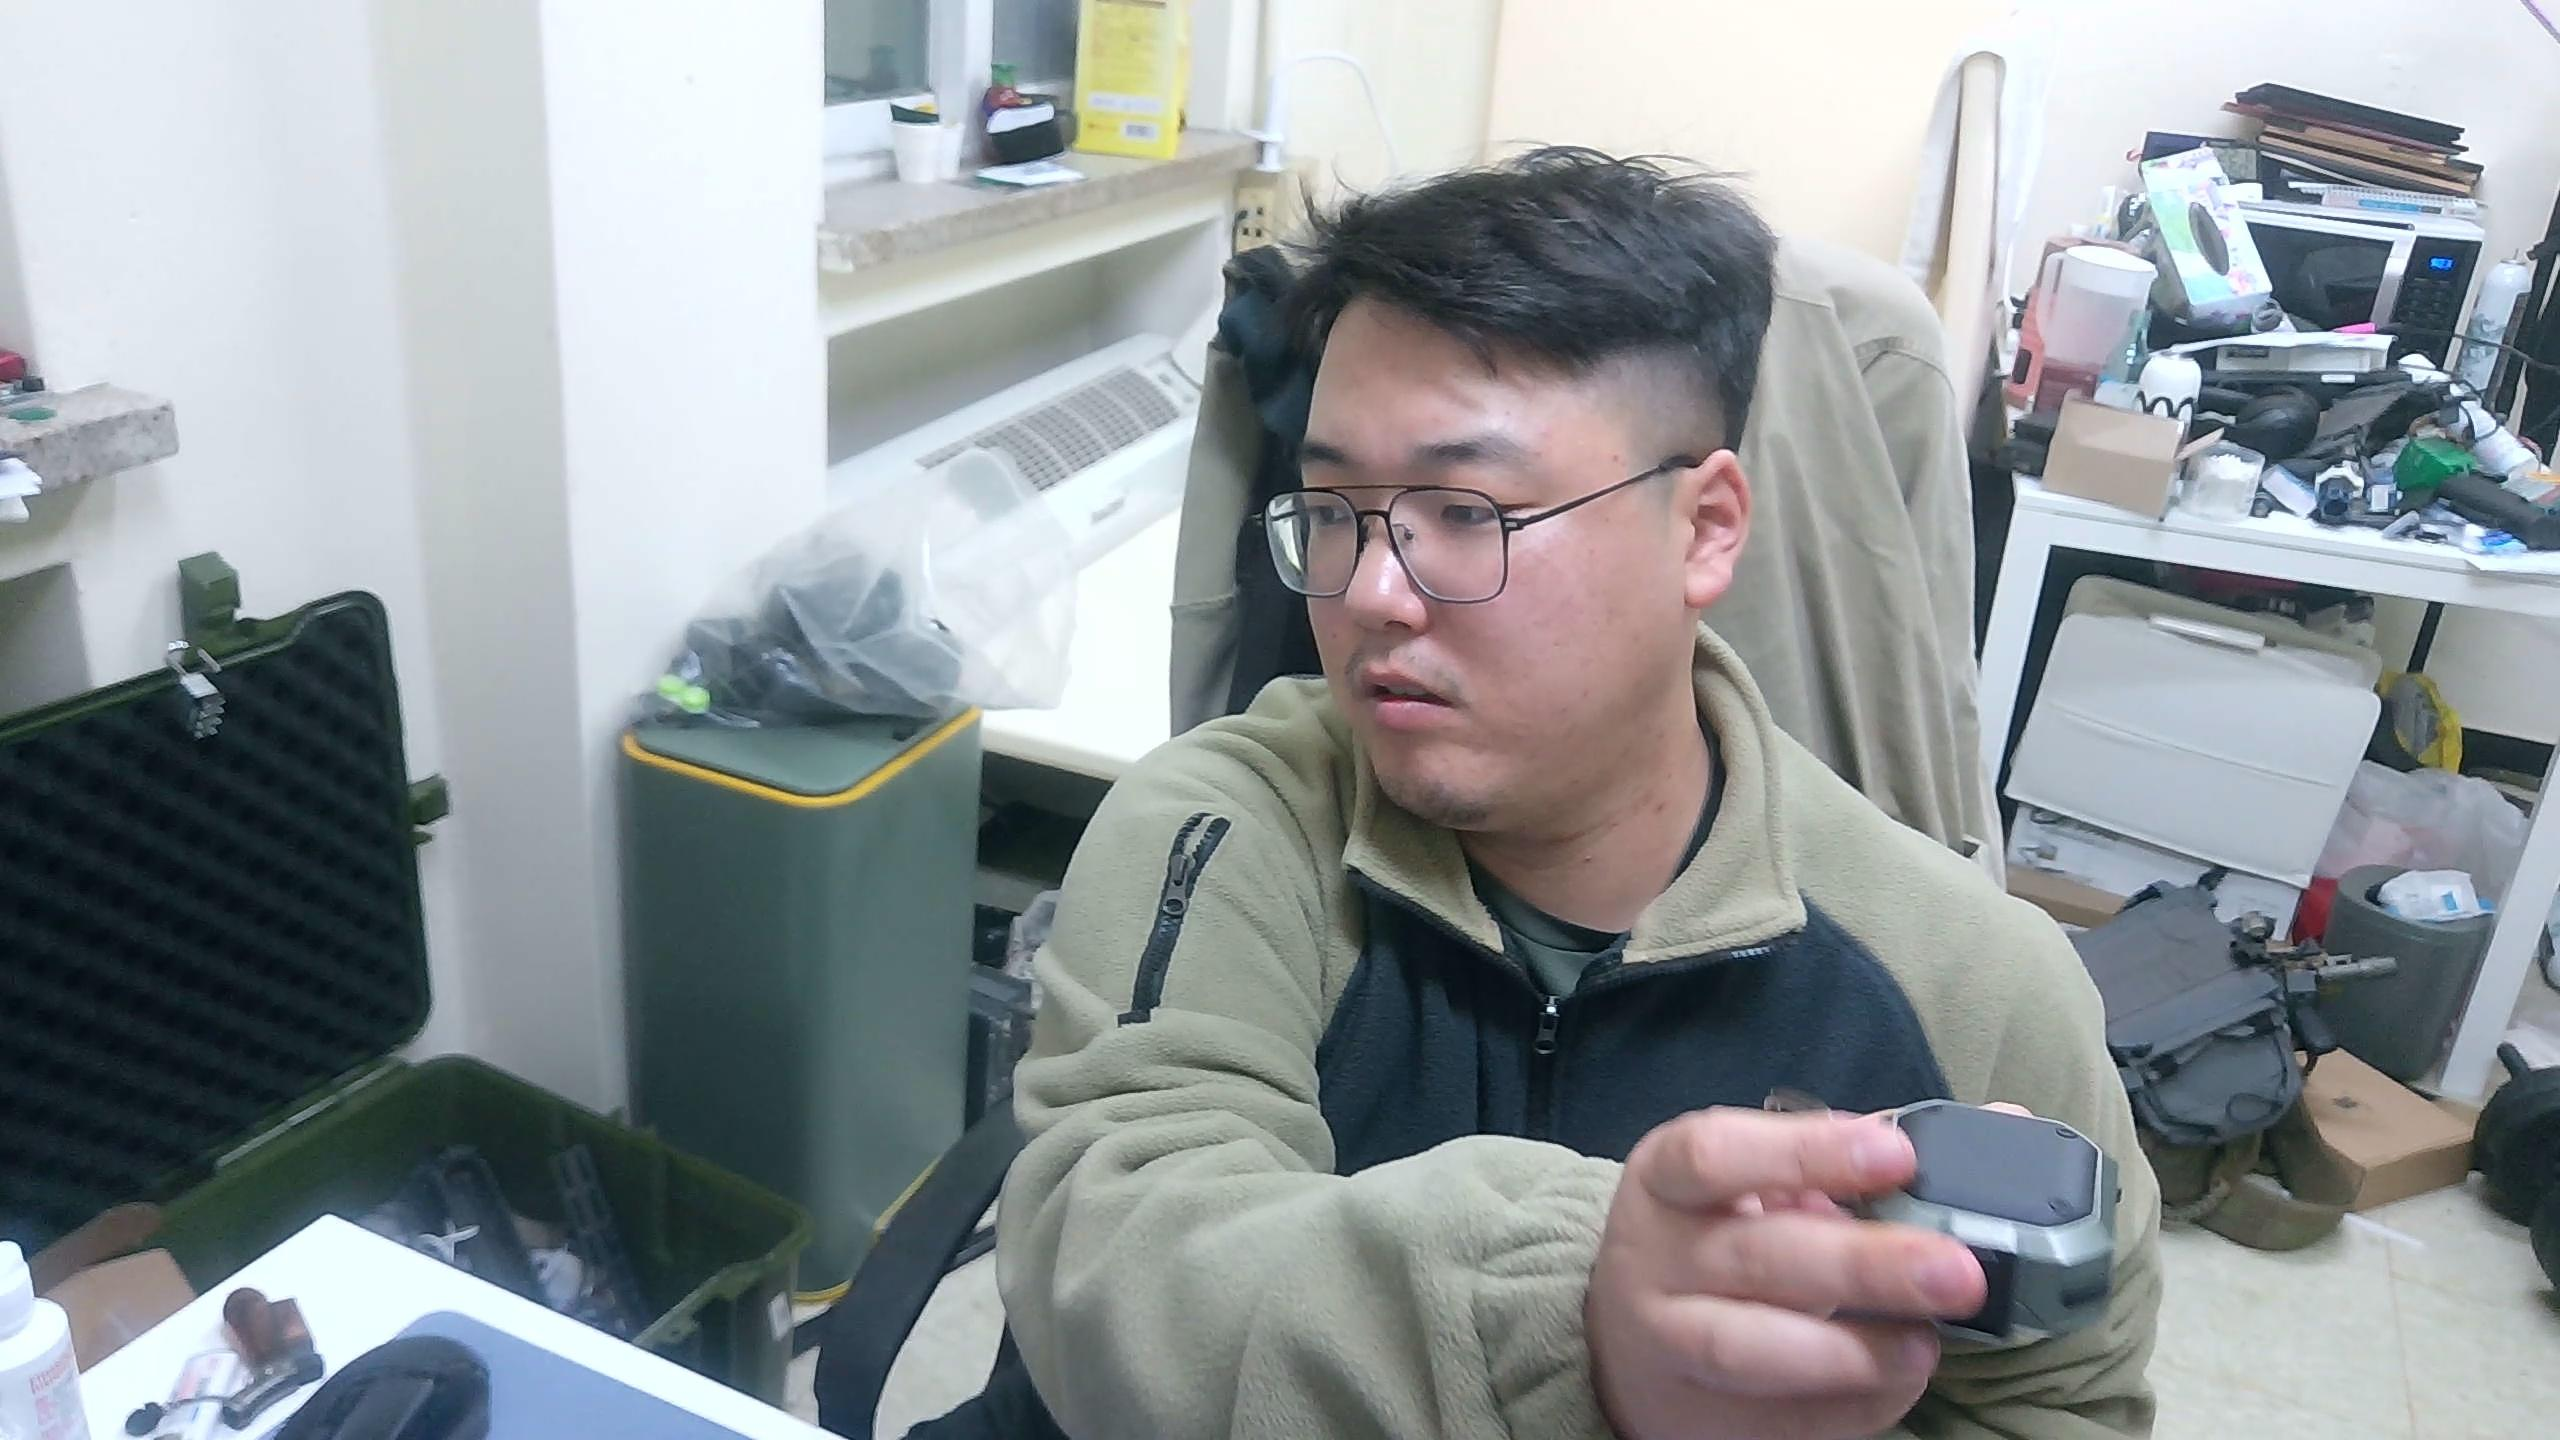blue_pliers: (1760, 1083, 2120, 1352)
